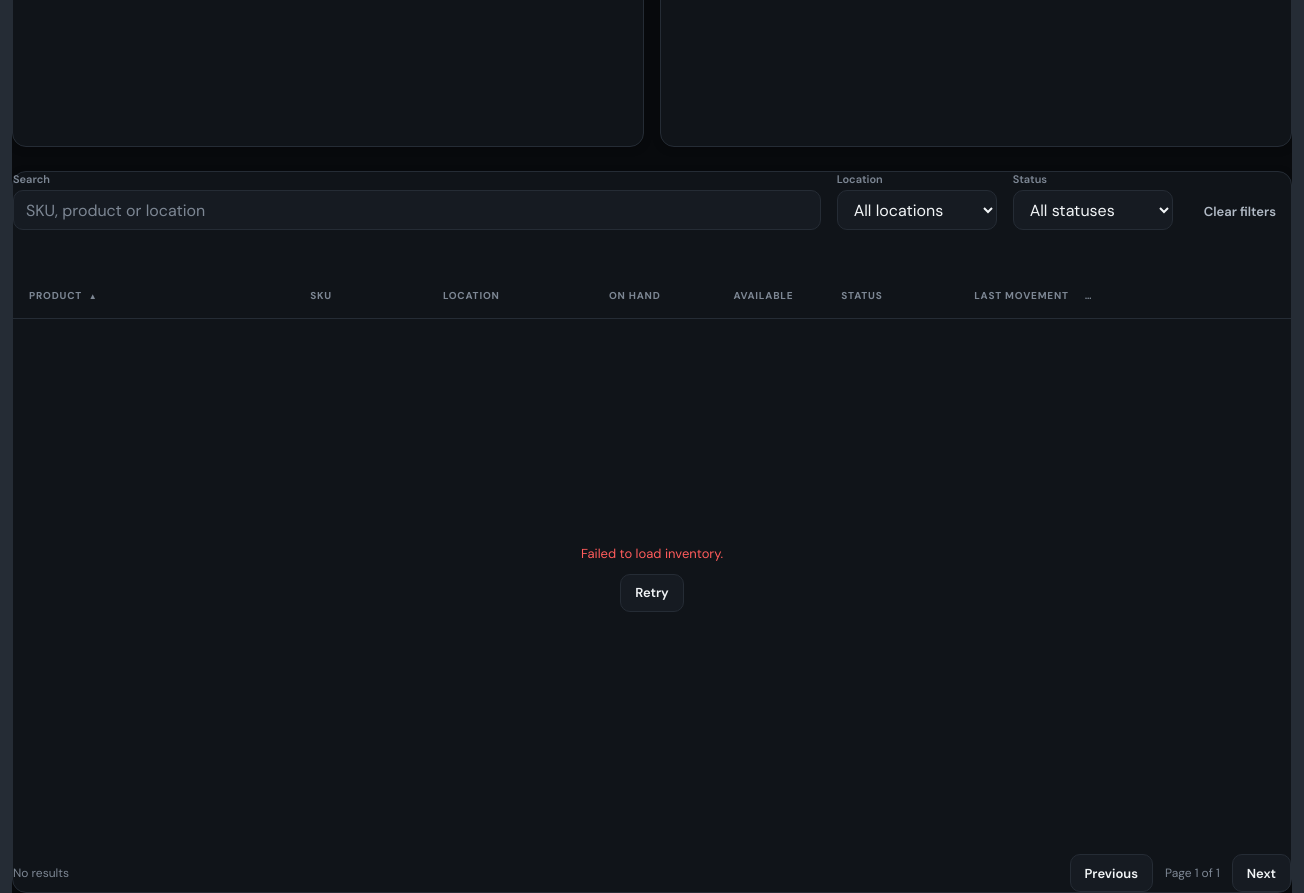
InventoryOverviewPage › shows an error state and recovers on Retry
The width and height of the screenshot is (1304, 893).
(page scrolled)
Check: the text "Failed to load inventory." is shown, box [581, 544, 723, 562]
Click the button "Retry" at (652, 592), box [620, 574, 684, 612]
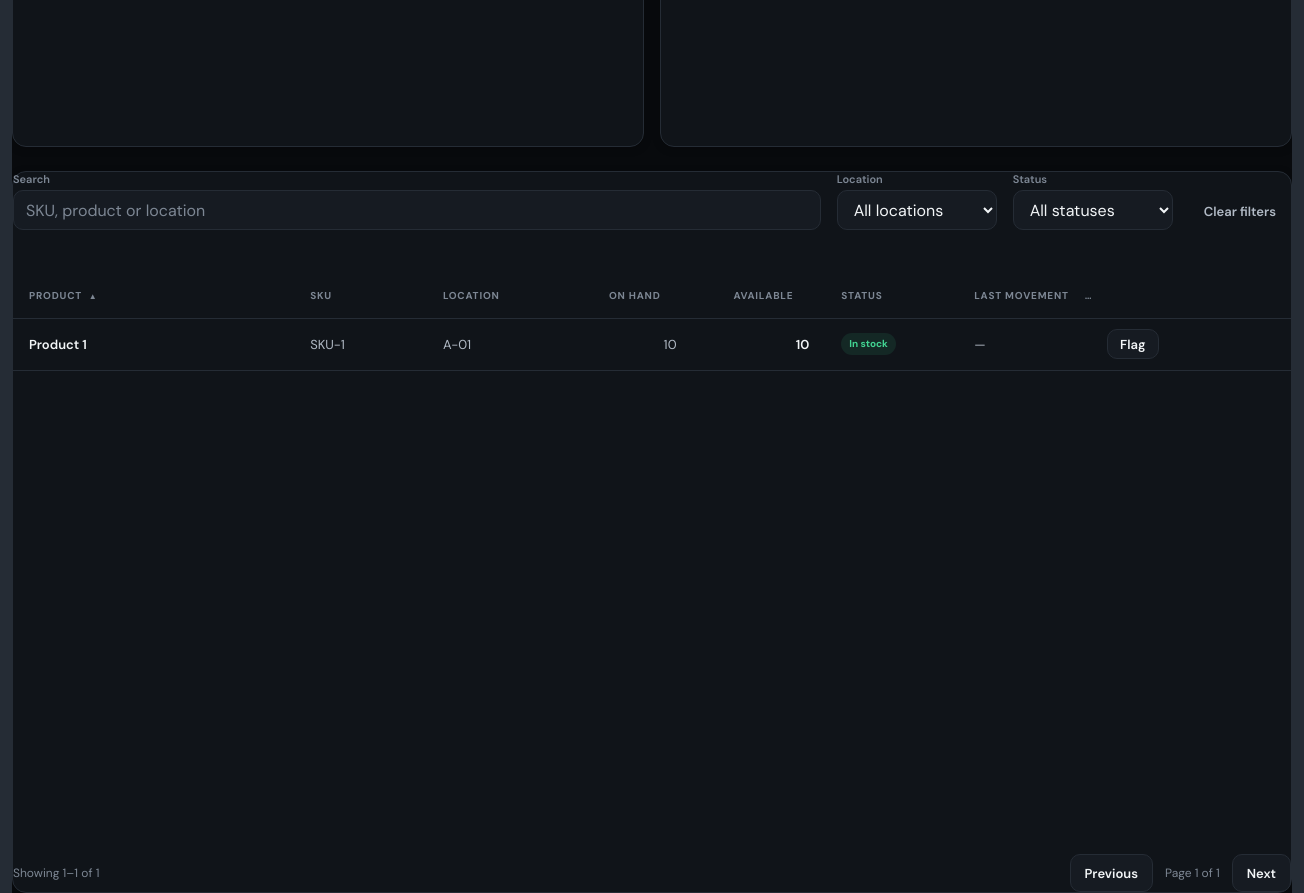
Check: the text "Product 1" is shown, box [29, 336, 87, 353]
